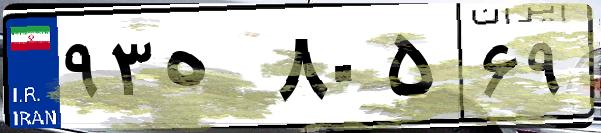0: (330, 28, 385, 110)
3: (110, 28, 158, 98)
5: (385, 28, 445, 110)
6: (475, 38, 525, 113)
8: (270, 28, 330, 110)
9: (57, 26, 110, 100), (525, 38, 570, 115)
ه: (158, 20, 270, 120)
